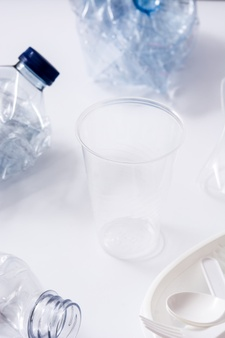plastic_bottle: (27, 1, 223, 132), (1, 32, 92, 222), (1, 224, 115, 338)
